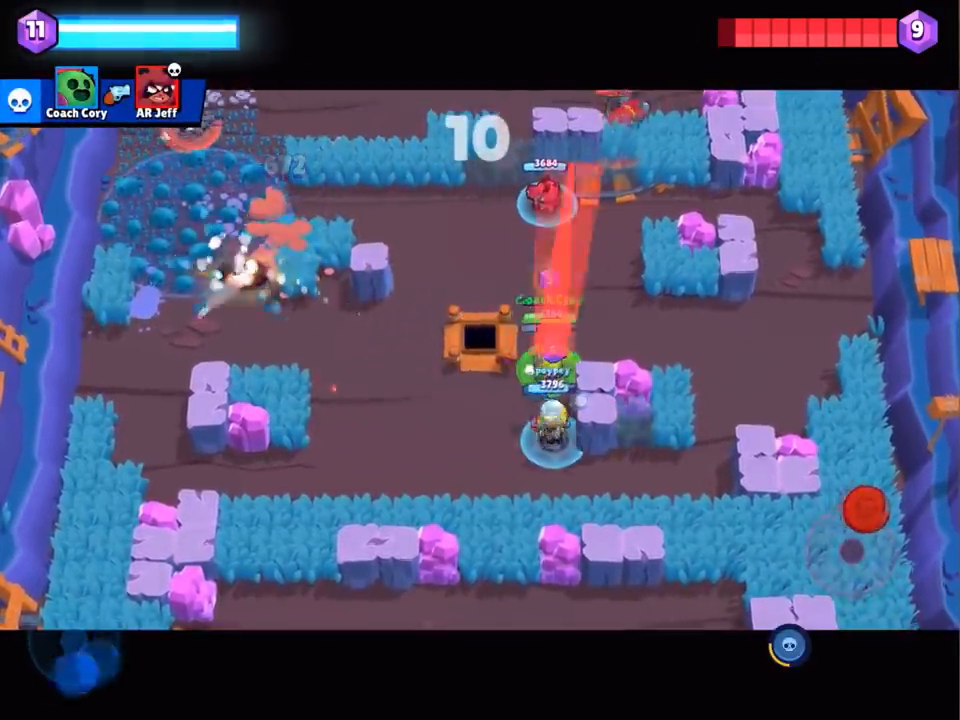move_stick: (56, 652, 104, 695)
